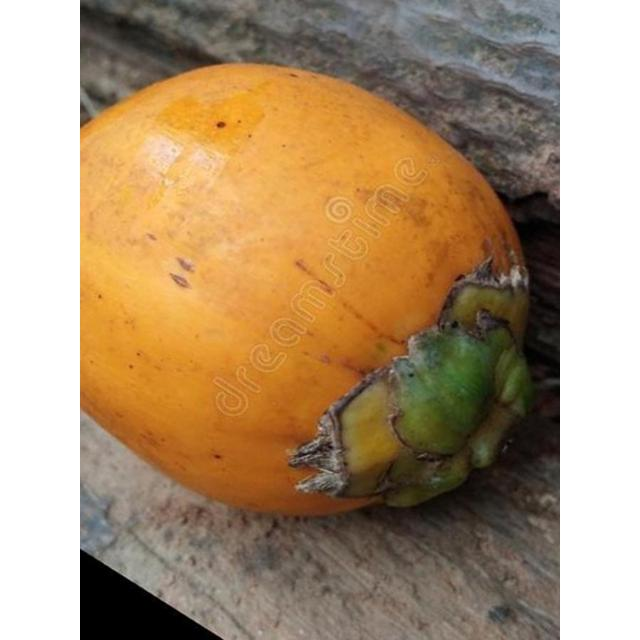good: (80, 63, 534, 520)
